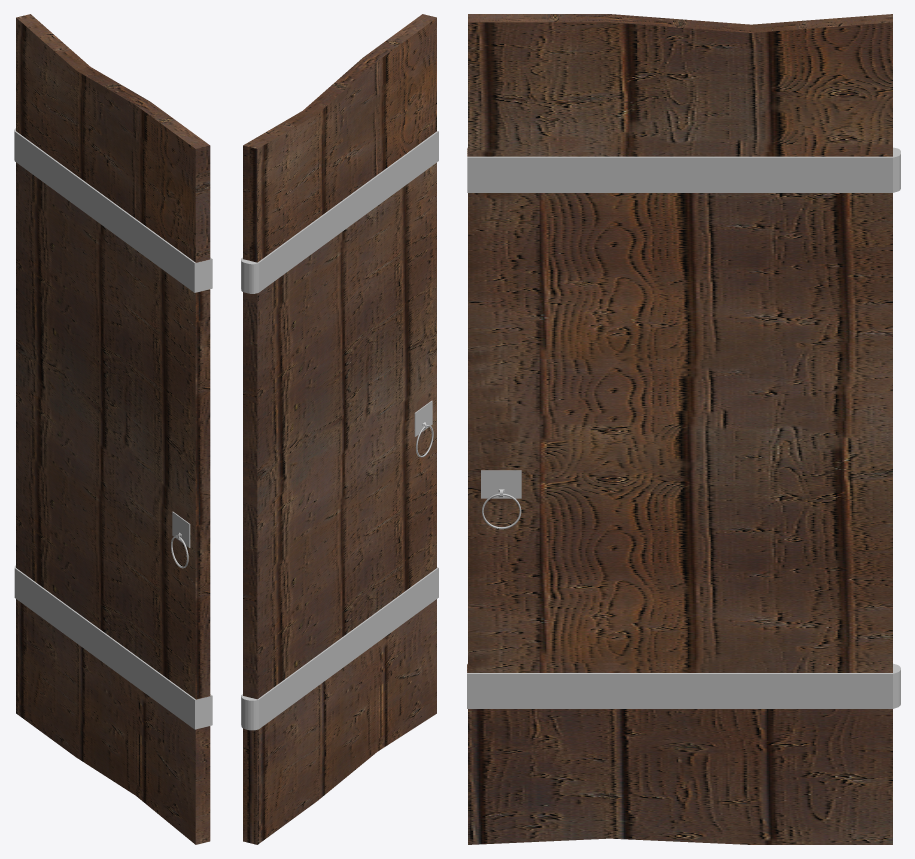
File: Door.fbx
3 views of the same model, side by side, from view 1: azimuth 30°, elevation 25°; view 2: azimuth 150°, elevation 25°; view 3: azimuth 270°, elevation 25° (orthographic). The views are drawn at different scales.
Parts seen in each view (by area): view 1: CastleExitDoor; view 2: CastleExitDoor; view 3: CastleExitDoor.
Boxes of the visible parts, <box> form: CastleExitDoor: <box>14,14,212,844</box>; CastleExitDoor: <box>241,14,438,844</box>; CastleExitDoor: <box>467,14,900,844</box>.
Bounding box in the file's own units: 2.4 × 77.21 × 36.9.
